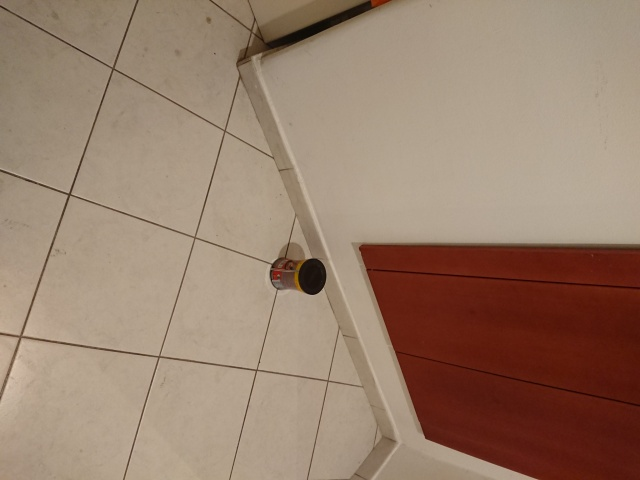Nescafe Classic 225g: (267, 253, 329, 298)
